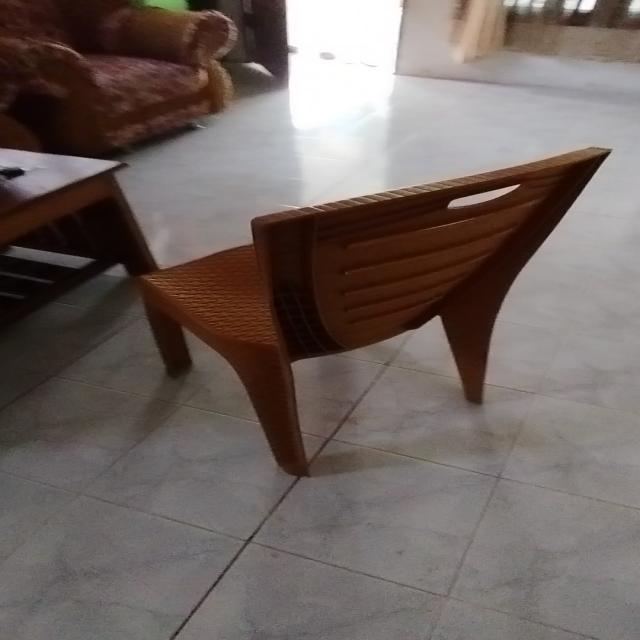chair: (127, 132, 630, 488)
